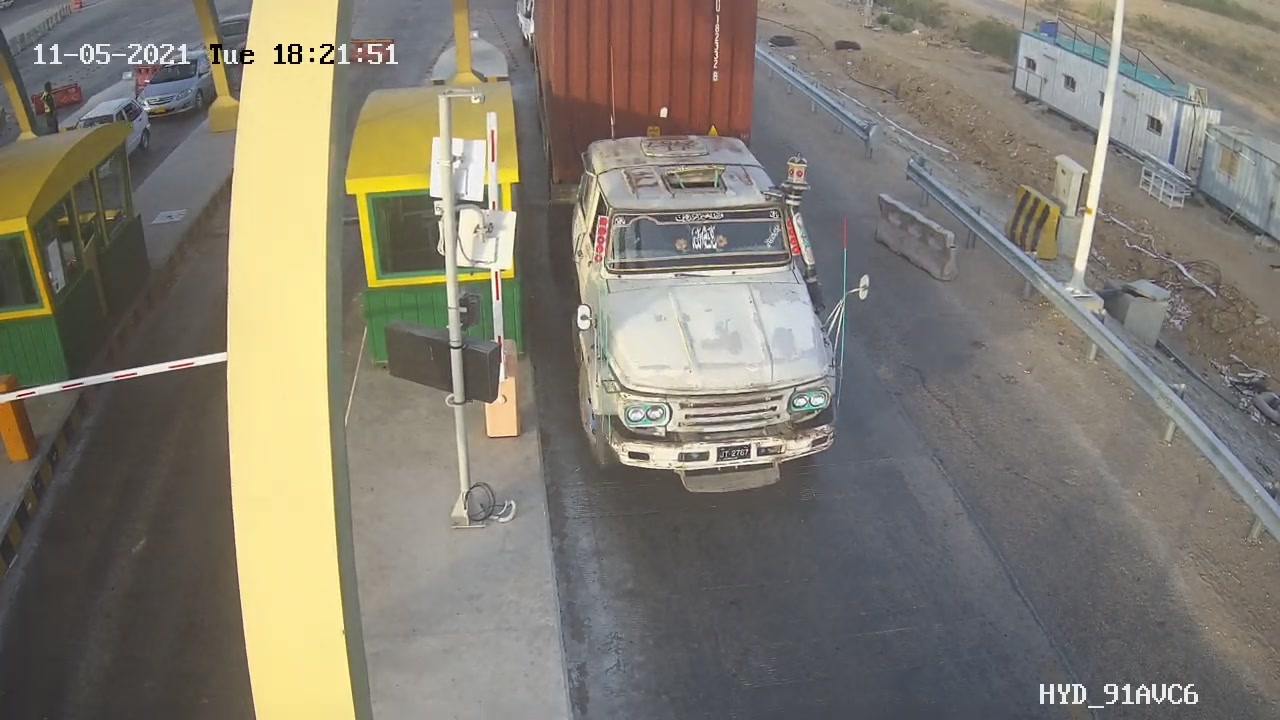F6: (512, 17, 888, 505)
